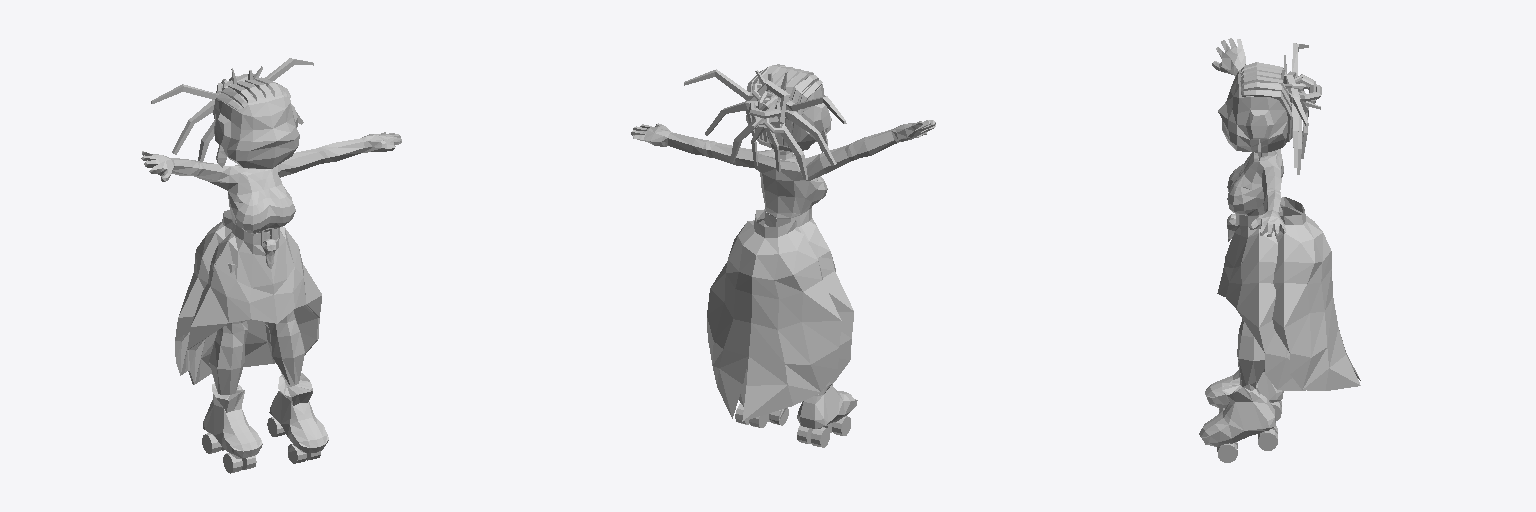
File: WitchFINAL2_000140.obj
3 renders of one model, left to right at view 1: azimuth 30°, elevation 25°; view 2: azimuth 150°, elevation 25°; view 3: azimuth 270°, elevation 25°, orthographic.
Parts seen in each view (by area): view 1: Body_Cylinder, Torso(Boobies)_Cylinder.002, LegR_Cube.004, LegL_Cube.003, Head_Cylinder.004, ZBody_Cylinder.001, Hair_Cylinder.006, Tail.001_Torus.001; view 2: ZBody_Cylinder.001, Torso(Boobies)_Cylinder.002, Body_Cylinder, LegR_Cube.004, Hair_Cylinder.006, Tail.001_Torus.001, Tail_Torus, Tail.002_Torus.002, Head_Cylinder.004, LegL_Cube.003; view 3: ZBody_Cylinder.001, Body_Cylinder, LegL_Cube.003, Torso(Boobies)_Cylinder.002, Head_Cylinder.004, Hair_Cylinder.006, LegR_Cube.004, Tail_Torus, Tail.002_Torus.002.
Part boxes in pixels (bbox=[...]): Body_Cylinder: bbox=[187, 223, 321, 384]; Torso(Boobies)_Cylinder.002: bbox=[141, 132, 401, 233]; LegR_Cube.004: bbox=[202, 263, 262, 473]; LegL_Cube.003: bbox=[267, 310, 328, 463]; Head_Cylinder.004: bbox=[214, 82, 299, 168]; ZBody_Cylinder.001: bbox=[175, 210, 232, 375]; Hair_Cylinder.006: bbox=[213, 77, 290, 118]; Tail.001_Torus.001: bbox=[151, 84, 220, 161]; ZBody_Cylinder.001: bbox=[707, 209, 841, 421]; Torso(Boobies)_Cylinder.002: bbox=[631, 120, 935, 218]; Body_Cylinder: bbox=[739, 208, 853, 406]; LegR_Cube.004: bbox=[797, 384, 857, 447]; Hair_Cylinder.006: bbox=[746, 64, 822, 147]; Tail.001_Torus.001: bbox=[764, 96, 846, 179]; Tail_Torus: bbox=[749, 70, 789, 132]; Tail.002_Torus.002: bbox=[684, 69, 764, 166]; Head_Cylinder.004: bbox=[746, 73, 831, 151]; LegL_Cube.003: bbox=[735, 399, 788, 427]; ZBody_Cylinder.001: bbox=[1272, 197, 1360, 390]; Body_Cylinder: bbox=[1217, 210, 1305, 390]; LegL_Cube.003: bbox=[1199, 262, 1277, 462]; Torso(Boobies)_Cylinder.002: bbox=[1212, 38, 1286, 236]; Head_Cylinder.004: bbox=[1218, 70, 1289, 152]; Hair_Cylinder.006: bbox=[1240, 62, 1299, 141]; LegR_Cube.004: bbox=[1205, 369, 1283, 420]; Tail_Torus: bbox=[1281, 55, 1321, 113]; Tail.002_Torus.002: bbox=[1289, 93, 1308, 174].
Bounding box in the file's own units: 12.87 × 16.8 × 6.49.